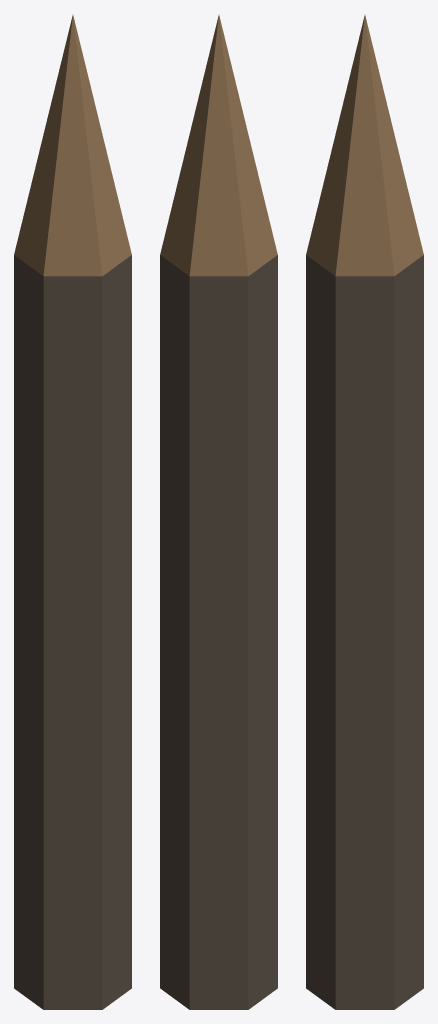
File: Wooden_Spear_05.fbx
3 views of the same model, side by side, from view 1: azimuth 90°, elevation 25°; view 2: azimuth 210°, elevation 25°; view 3: azimuth 270°, elevation 25° (orthographic).
Visible parts, largest first — view 1: Wooden_Spear; view 2: Wooden_Spear; view 3: Wooden_Spear.
Part boxes in pixels (<box>): Wooden_Spear: <box>14,15,131,1009</box>; Wooden_Spear: <box>160,15,277,1009</box>; Wooden_Spear: <box>306,15,423,1009</box>.
Bounding box in the file's own units: 6.4 × 67.53 × 7.41.
